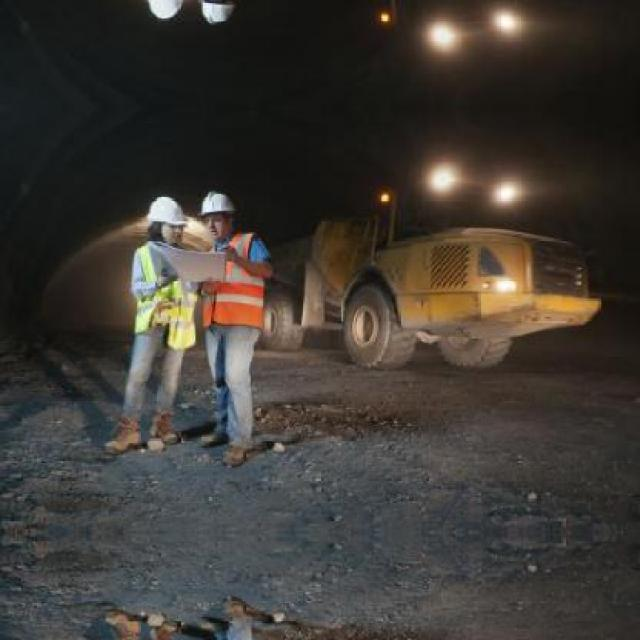Reflective-Jacket: (118, 237, 202, 355), (200, 229, 278, 340)
Safety-Helmet: (134, 189, 192, 237), (192, 184, 245, 224)
